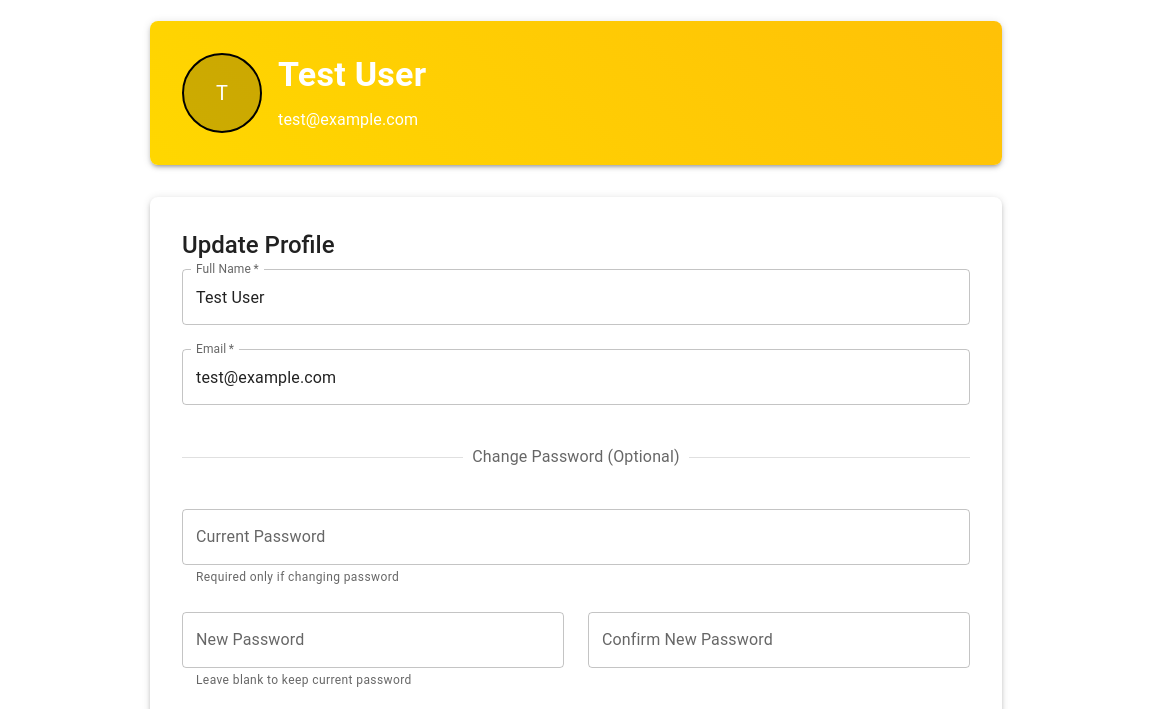
Scenario: Profile Component › Form Submission › should clear password fields after successful update
Type "currentpass" into the password field labelled "Current Password" at (576, 537), box 182,509 -> 970,565
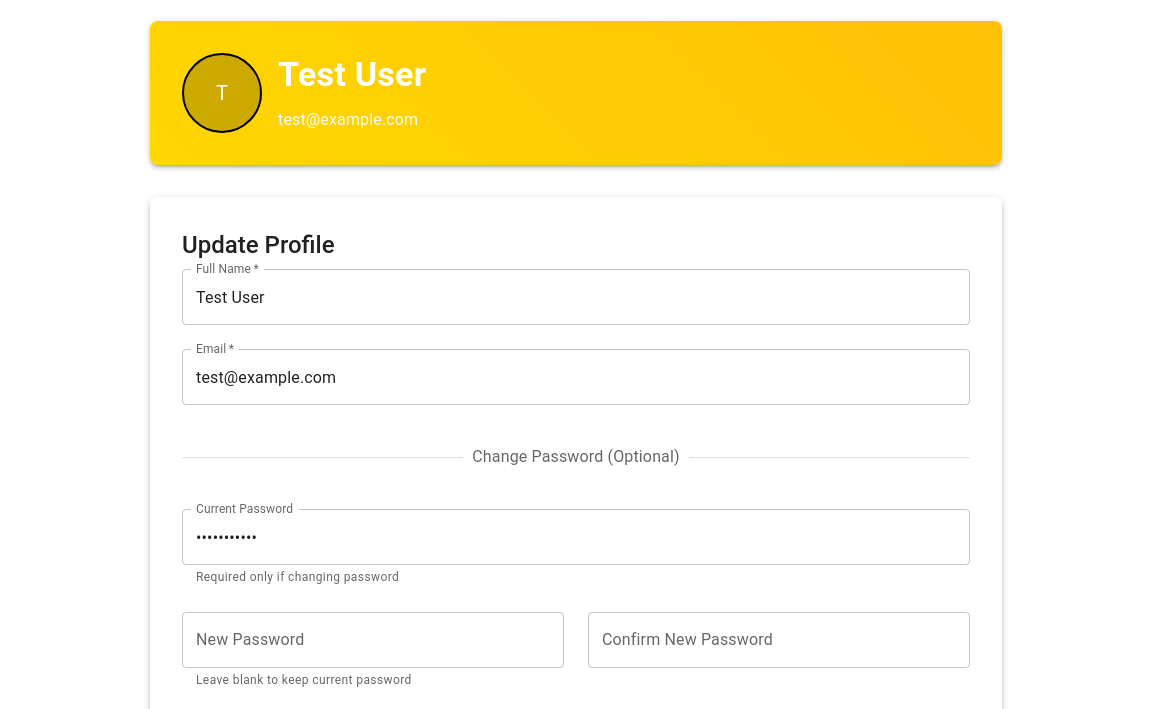
Type "newpassword123" into the password field labelled "New Password" at (373, 640), box 182,612 -> 564,668
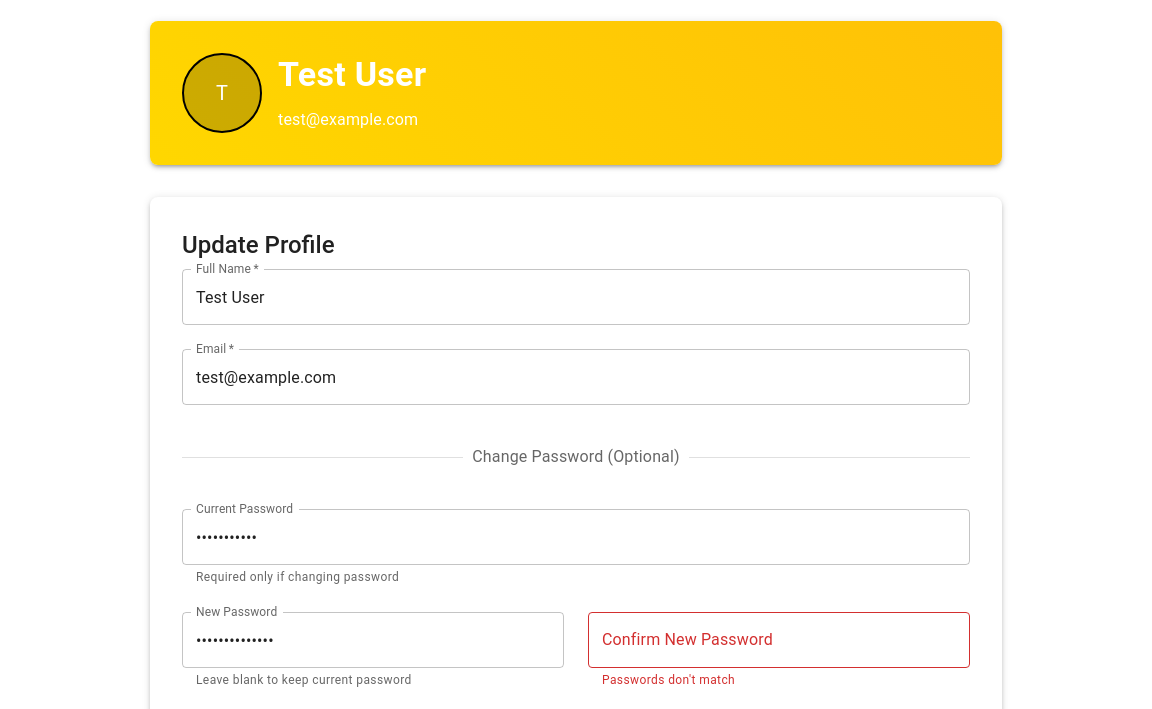
Type "newpassword123" into the password field labelled "Confirm New Password" at (779, 640), box 588,612 -> 970,668
(page scrolled)
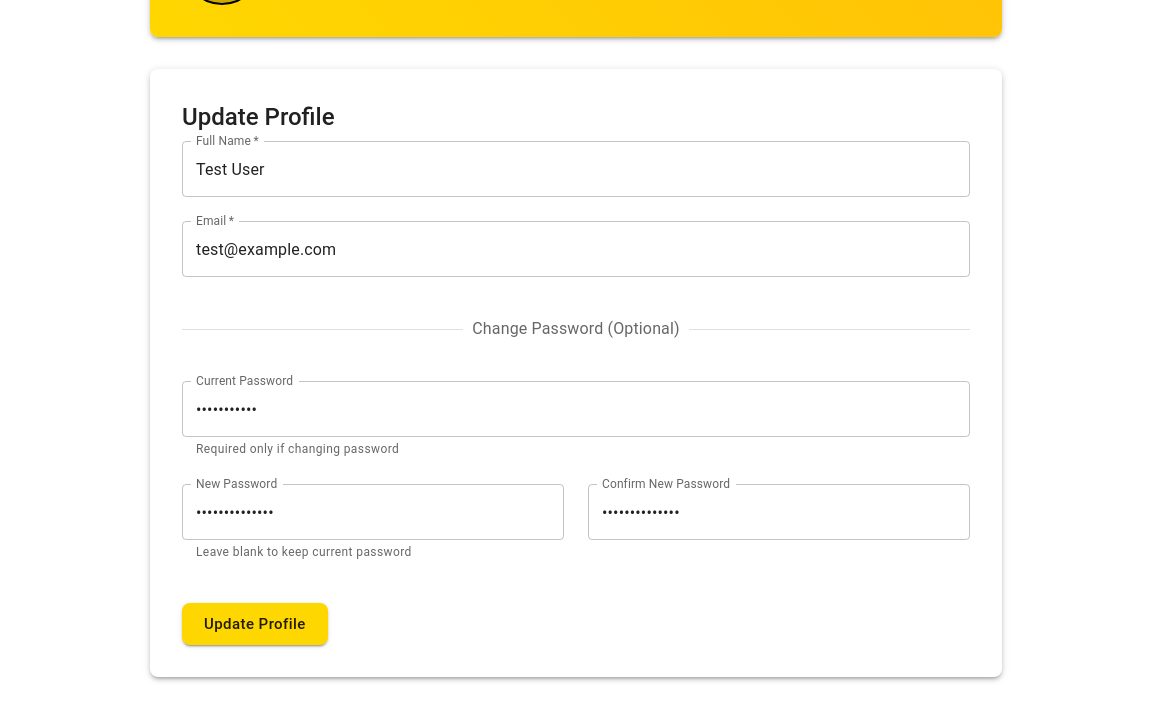
# Submit the form
Click the button "Update Profile" at (255, 624), box 182,603 -> 328,646
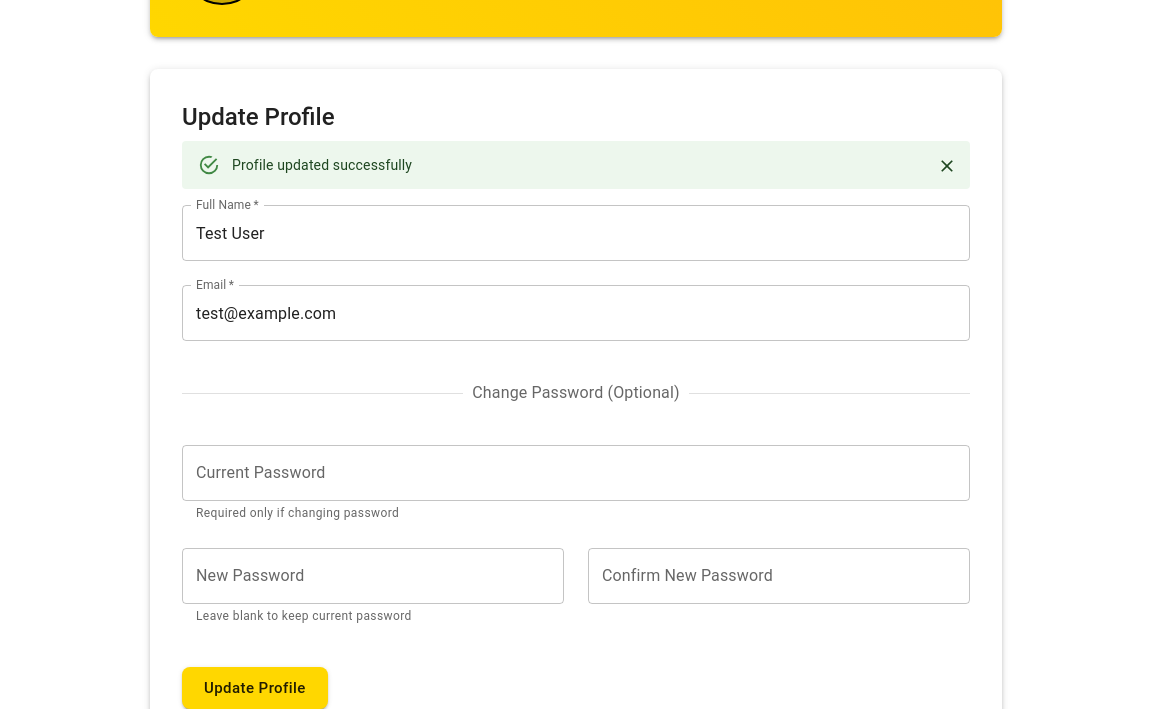
Expected: the text "Profile updated successfully" is shown, 232,157 -> 412,173
Expected: the password field labelled "Current Password" is empty, 182,445 -> 970,501
Expected: the password field labelled "New Password" is empty, 182,548 -> 564,604
